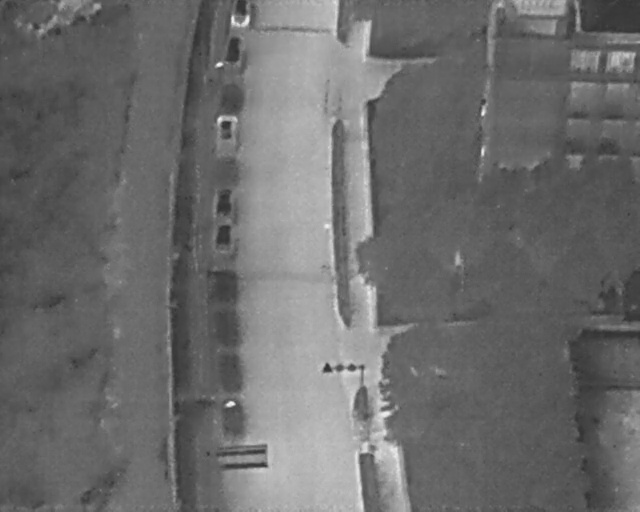Car: (216, 114, 237, 142), (213, 223, 233, 250), (224, 36, 243, 63), (231, 1, 250, 27), (215, 189, 232, 216)
